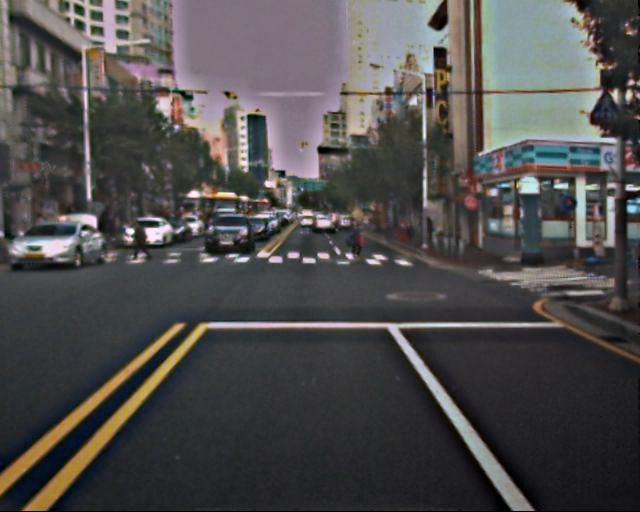person: (345, 217, 364, 264), (130, 220, 148, 265)
